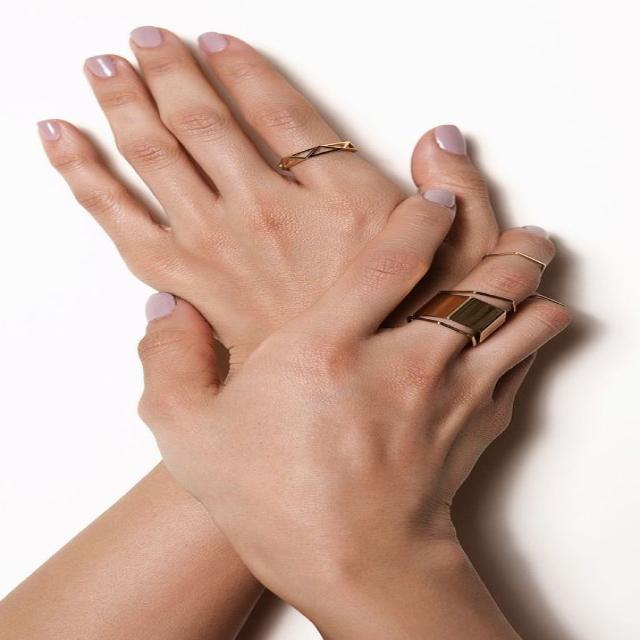Fingernail: (436, 126, 468, 157), (145, 293, 175, 323), (86, 55, 115, 82), (132, 26, 162, 52), (423, 189, 456, 210), (201, 33, 228, 52), (37, 121, 58, 143)
